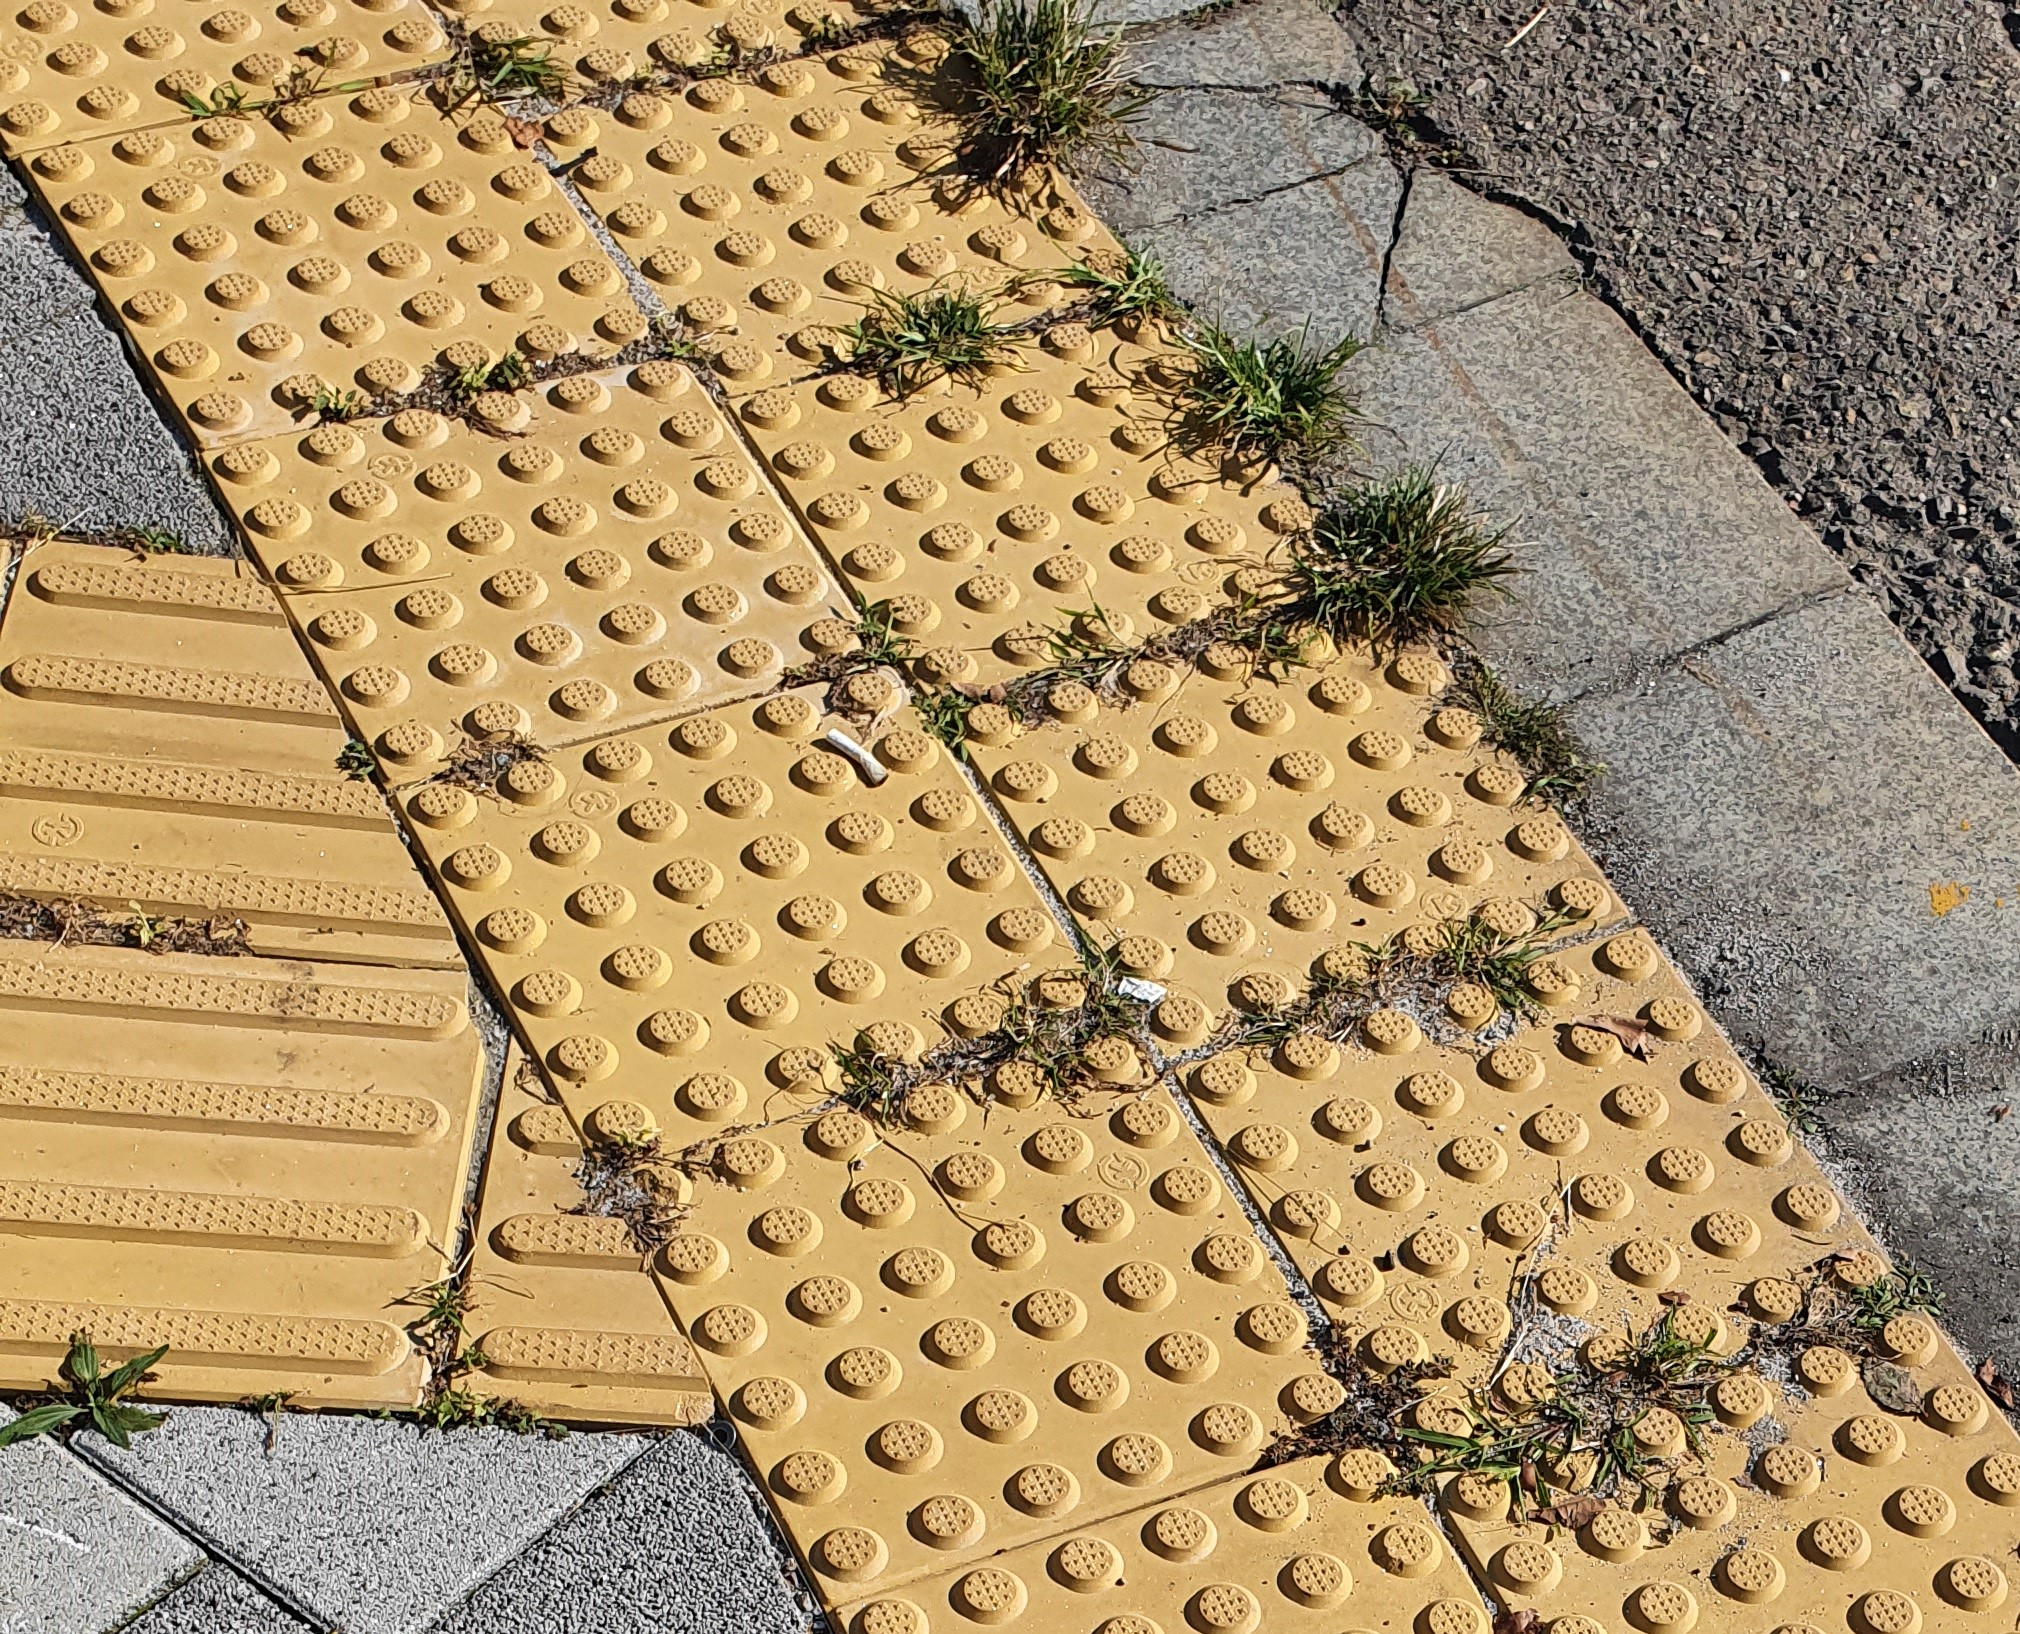guideBlock: (3, 889, 438, 1351), (17, 562, 415, 959)
warningBlock: (673, 1127, 1275, 1494), (1258, 959, 1752, 1381), (540, 719, 1055, 1105), (308, 383, 797, 727), (628, 38, 1077, 398), (1053, 635, 1483, 1009), (110, 98, 603, 407), (810, 367, 1233, 654)
